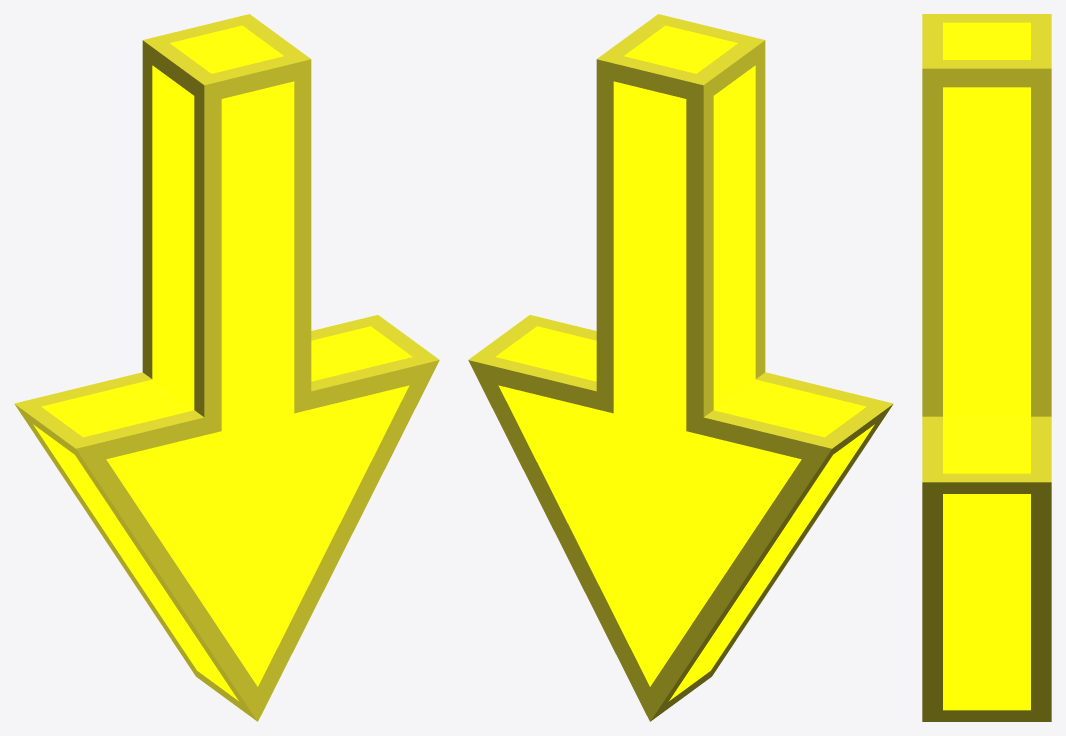
The model's file is Arrow.fbx.
3 renders of one model, left to right at view 1: azimuth 30°, elevation 25°; view 2: azimuth 150°, elevation 25°; view 3: azimuth 270°, elevation 25°, orthographic. The views are drawn at different scales.
Visible parts, largest first — view 1: Plane.013; view 2: Plane.013; view 3: Plane.013.
Part boxes in pixels (<box>): Plane.013: <box>14,14,439,721</box>; Plane.013: <box>468,14,893,721</box>; Plane.013: <box>922,14,1051,721</box>.
Bounding box in the file's own units: 3.4 × 5.8 × 1.
